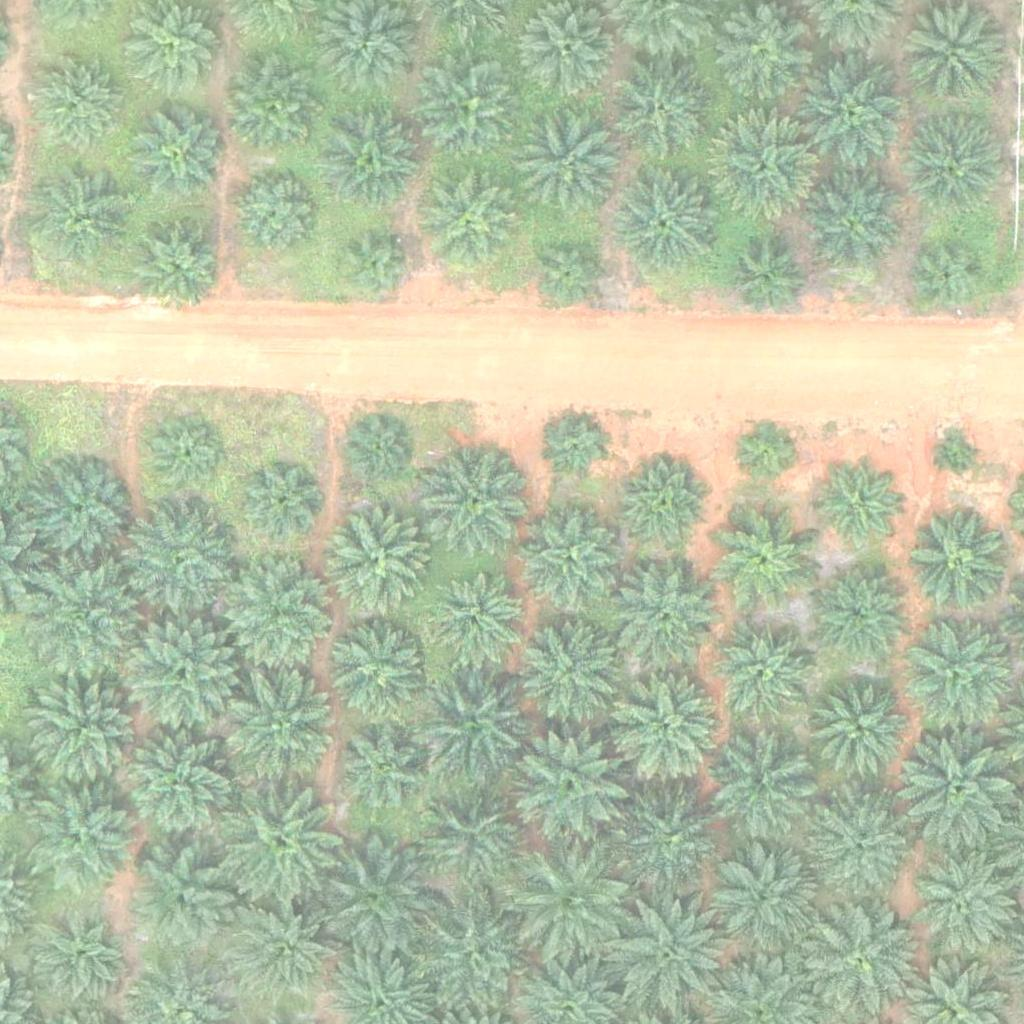Kelapa_Sawit: (24, 558, 149, 684), (118, 723, 243, 849), (219, 665, 344, 791), (218, 780, 343, 906), (314, 836, 439, 962), (410, 656, 535, 782), (409, 775, 534, 901), (409, 891, 534, 1017), (510, 725, 635, 851), (508, 843, 633, 969), (605, 891, 730, 1017), (893, 729, 1018, 855), (606, 668, 731, 793), (30, 676, 143, 790), (796, 55, 909, 168), (28, 781, 141, 894), (21, 899, 134, 1012), (122, 847, 235, 960), (222, 558, 335, 671), (125, 614, 237, 728), (230, 893, 342, 1007), (709, 116, 821, 229), (120, 499, 232, 612), (902, 612, 1014, 725), (905, 848, 1017, 961), (803, 173, 903, 274), (612, 64, 712, 165), (616, 171, 716, 272), (519, 109, 619, 210), (420, 58, 520, 159), (420, 170, 520, 271), (321, 112, 421, 213), (226, 56, 326, 157), (327, 508, 427, 609), (326, 623, 426, 724), (429, 449, 529, 550), (423, 570, 523, 671), (520, 506, 620, 607), (520, 618, 620, 719), (615, 563, 715, 664), (623, 790, 723, 891), (717, 510, 817, 611), (712, 625, 812, 726), (713, 739, 813, 840), (717, 843, 817, 944), (809, 562, 909, 663), (811, 678, 911, 779), (808, 794, 908, 895), (901, 1, 1001, 101), (906, 115, 1006, 215), (713, 4, 813, 104), (127, 214, 227, 314), (33, 164, 133, 264), (28, 462, 128, 562), (333, 719, 433, 819), (909, 507, 1009, 607), (232, 170, 320, 258), (814, 462, 902, 550), (137, 110, 224, 198), (33, 53, 120, 141), (626, 459, 713, 547), (149, 420, 224, 496), (912, 237, 987, 313), (338, 229, 413, 305), (246, 464, 321, 539), (730, 243, 805, 318), (534, 237, 609, 312), (347, 418, 410, 481), (547, 416, 609, 479), (733, 417, 795, 480), (940, 437, 977, 475)
